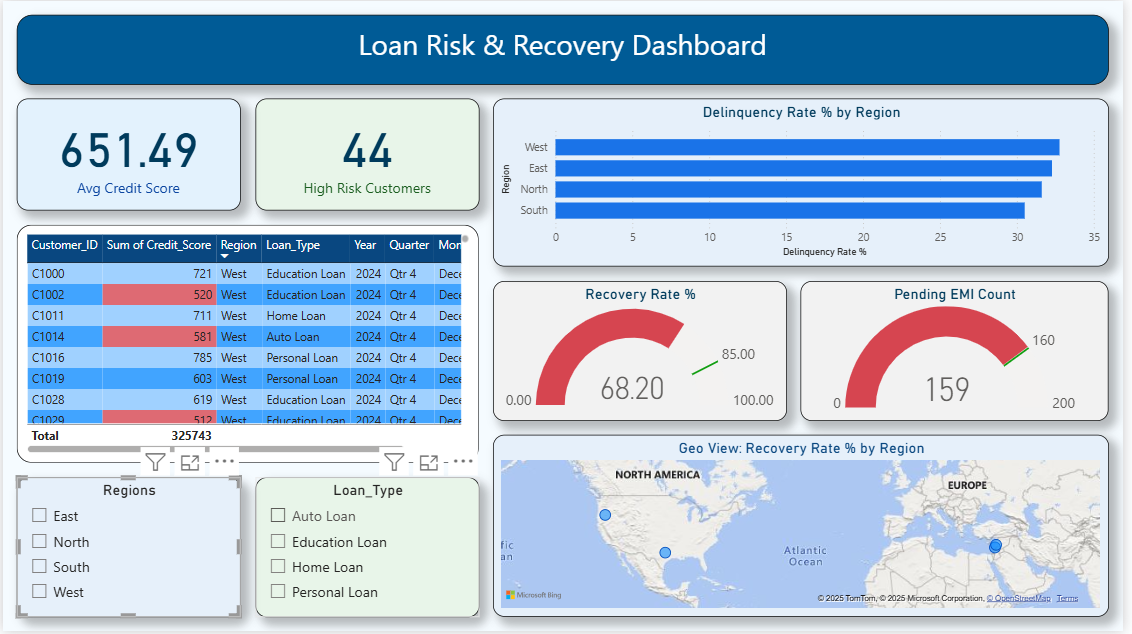

The page's visual inventory and layout, read from the dashboard file:
{"tool":"powerbi","page":{"name":"Page 1","canvas":[1280,720],"ordinal":0},"visuals":[{"type":"textbox","box":[16,16,1248,80],"z":0},{"type":"card","fields":{"Values":["Loan_Risk_Recovery_Dataset.High Risk Customers"]},"box":[288,112,256,128],"z":1000},{"type":"gauge","fields":{"Y":["Loan_Risk_Recovery_Dataset.Recovery Rate %"]},"box":[560,320,336,160],"z":2000},{"type":"card","fields":{"Values":["Loan_Risk_Recovery_Dataset.Avg Credit Score"]},"box":[16,112,256,128],"z":3000},{"type":"clusteredBarChart","fields":{"Y":["Loan_Risk_Recovery_Dataset.Delinquency Rate %"],"Category":["Loan_Risk_Recovery_Dataset.Region"]},"box":[560,112,704,192],"z":4000},{"type":"tableEx","fields":{"Values":["Loan_Risk_Recovery_Dataset.Customer_ID","Sum(Loan_Risk_Recovery_Dataset.Credit_Score)","Loan_Risk_Recovery_Dataset.Region","Loan_Risk_Recovery_Dataset.Loan_Type","Loan_Risk_Recovery_Dataset.EMI_Due.Variation.Date Hierarchy.Year","Loan_Risk_Recovery_Dataset.EMI_Due.Variation.Date Hierarchy.Quarter","Loan_Risk_Recovery_Dataset.EMI_Due.Variation.Date Hierarchy.Month","Loan_Risk_Recovery_Dataset.EMI_Due.Variation.Date Hierarchy.Day"]},"box":[16,256,528,272],"z":5000},{"type":"slicer","title":"Regions","fields":{"Values":["Loan_Risk_Recovery_Dataset.Region"]},"box":[16,544,256,160],"z":6000},{"type":"slicer","title":"Loan_Type","fields":{"Values":["Loan_Risk_Recovery_Dataset.Loan_Type"]},"box":[288,544,256,160],"z":7000},{"type":"gauge","fields":{"Y":["Loan_Risk_Recovery_Dataset.Pending EMI Count"]},"box":[912,320,352,160],"z":8000},{"type":"map","title":"Geo View: Recovery Rate % by Region","fields":{"Category":["Loan_Risk_Recovery_Dataset.Region"],"Size":["Loan_Risk_Recovery_Dataset.Recovery Rate %"]},"box":[560,496,704,208],"z":9000}]}

Visuals, with their boxes in screenshot pixels (x1, y1, x2, y2), scaled from the page's 1280x720 canvas onto the 1132x634 screenshot:
textbox: (left=14, top=14, right=1118, bottom=85)
card - Loan_Risk_Recovery_Dataset.High Risk Customers: (left=255, top=99, right=481, bottom=211)
gauge - Loan_Risk_Recovery_Dataset.Recovery Rate %: (left=495, top=282, right=792, bottom=423)
card - Loan_Risk_Recovery_Dataset.Avg Credit Score: (left=14, top=99, right=241, bottom=211)
clusteredBarChart - Loan_Risk_Recovery_Dataset.Delinquency Rate % x Loan_Risk_Recovery_Dataset.Region: (left=495, top=99, right=1118, bottom=268)
tableEx - Loan_Risk_Recovery_Dataset.Customer_ID x Sum(Loan_Risk_Recovery_Dataset.Credit_Score): (left=14, top=225, right=481, bottom=465)
"Regions" slicer: (left=14, top=479, right=241, bottom=620)
"Loan_Type" slicer: (left=255, top=479, right=481, bottom=620)
gauge - Loan_Risk_Recovery_Dataset.Pending EMI Count: (left=807, top=282, right=1118, bottom=423)
"Geo View: Recovery Rate % by Region" map: (left=495, top=437, right=1118, bottom=620)
